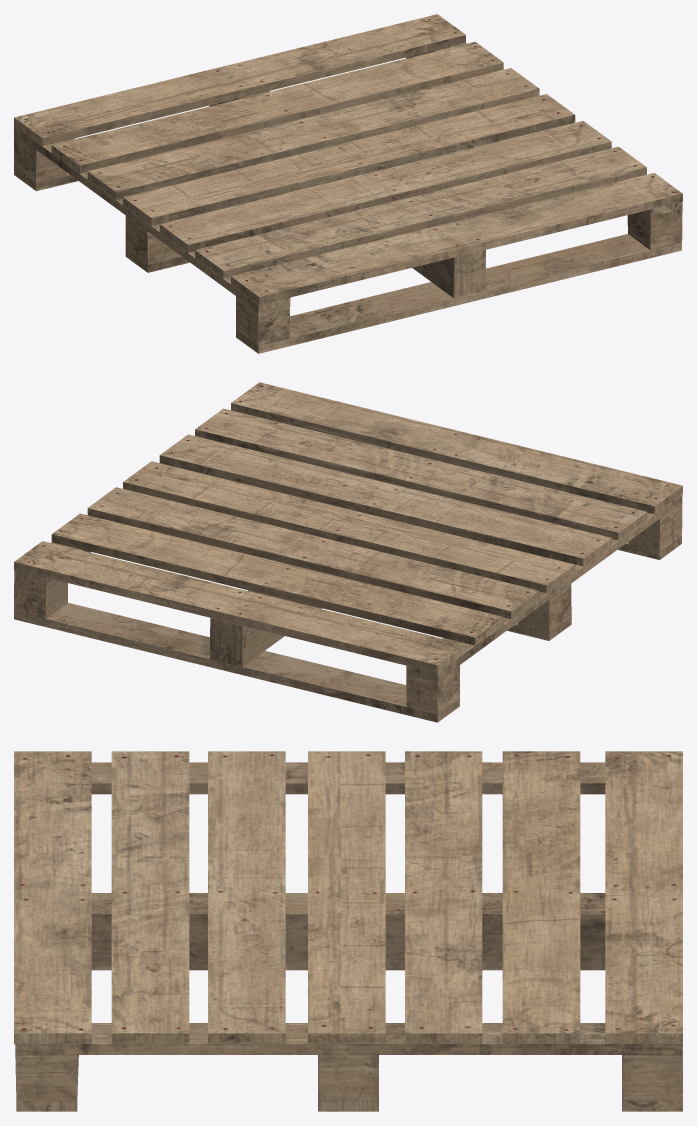
File: fin.glb
3 renders of one model, top to bottom at view 1: azimuth 30°, elevation 25°; view 2: azimuth 150°, elevation 25°; view 3: azimuth 270°, elevation 25°, orthographic. The views are drawn at different scales.
Parts seen in each view (by area): view 1: SM_Pallet_00a; view 2: SM_Pallet_00a; view 3: SM_Pallet_00a.
Part boxes in pixels (<box>): SM_Pallet_00a: <box>14,14,682,353</box>; SM_Pallet_00a: <box>14,382,682,722</box>; SM_Pallet_00a: <box>14,751,682,1111</box>.
Size of the model in its own units: 1.3 by 0.1686 by 1.3.
1 material, 1 textured.
